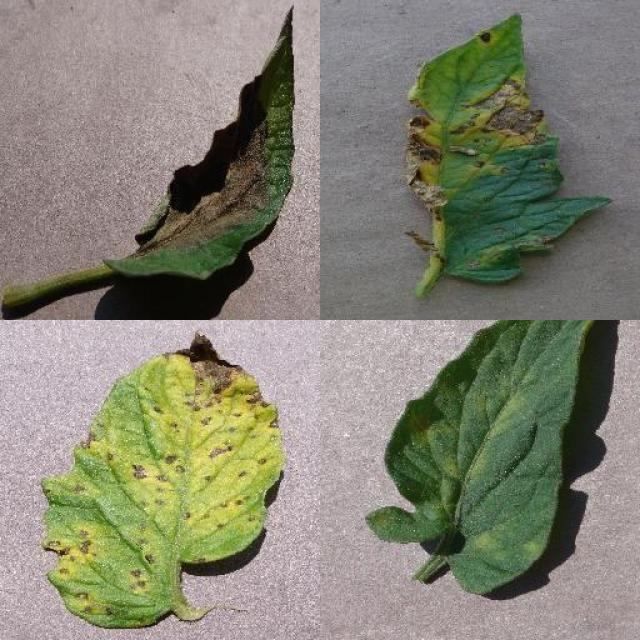Early Blight: (405, 12, 613, 282)
Late Blight: (104, 8, 296, 282)
Septoria: (36, 332, 286, 630)
